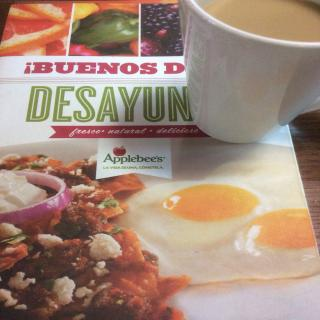Egg: (108, 181, 320, 286)
